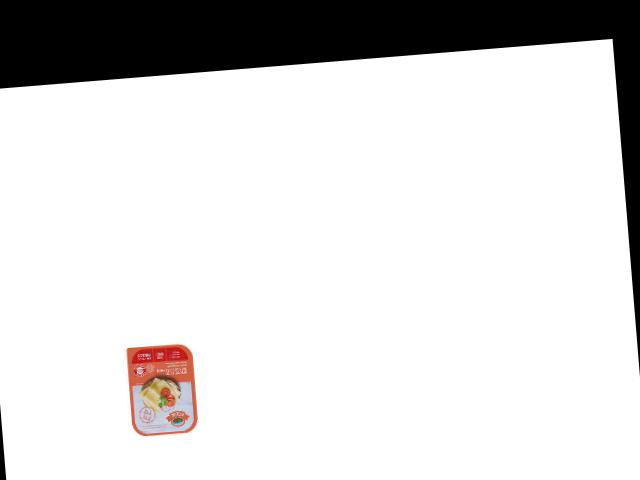cheese: (124, 337, 203, 439)
